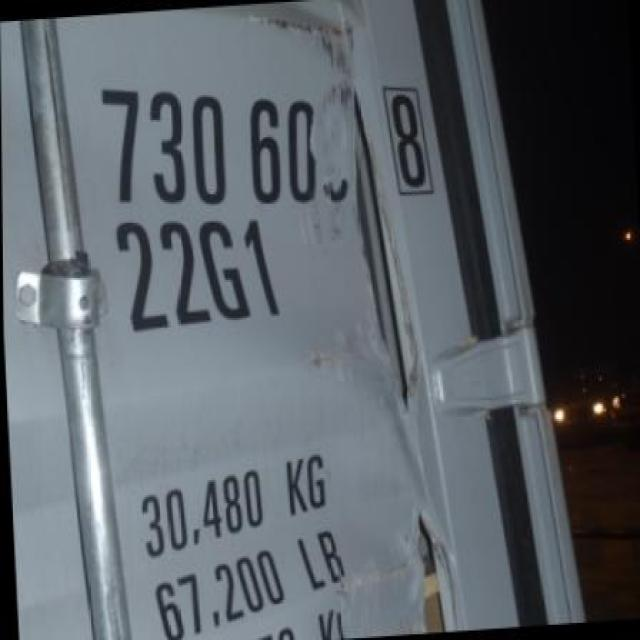hole: (350, 81, 415, 418), (414, 515, 449, 635)
